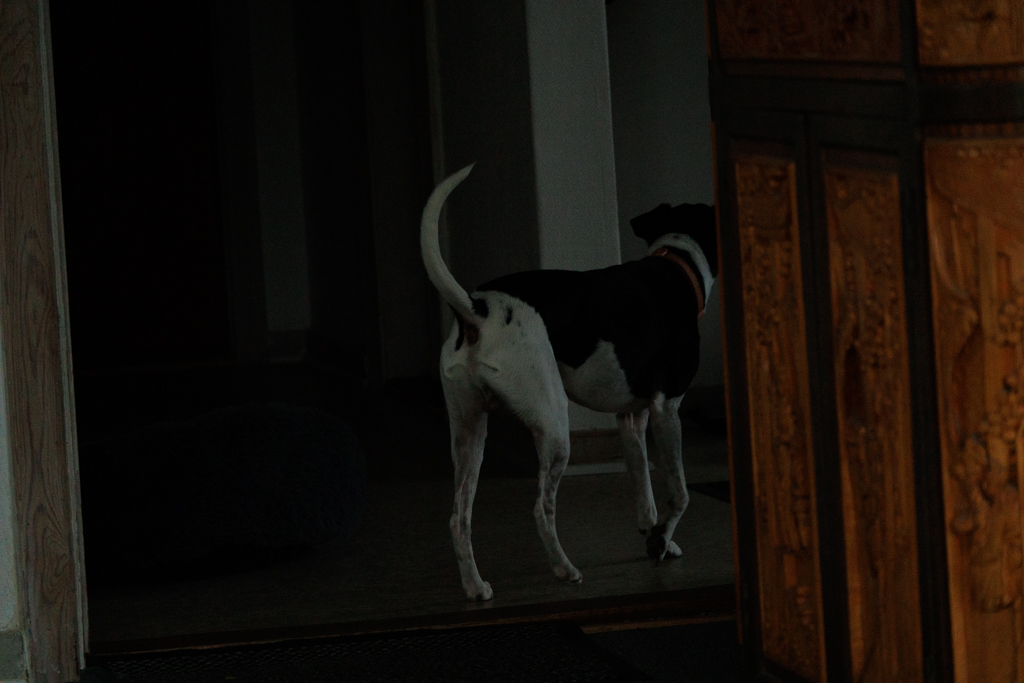Dog: (409, 151, 758, 612)
